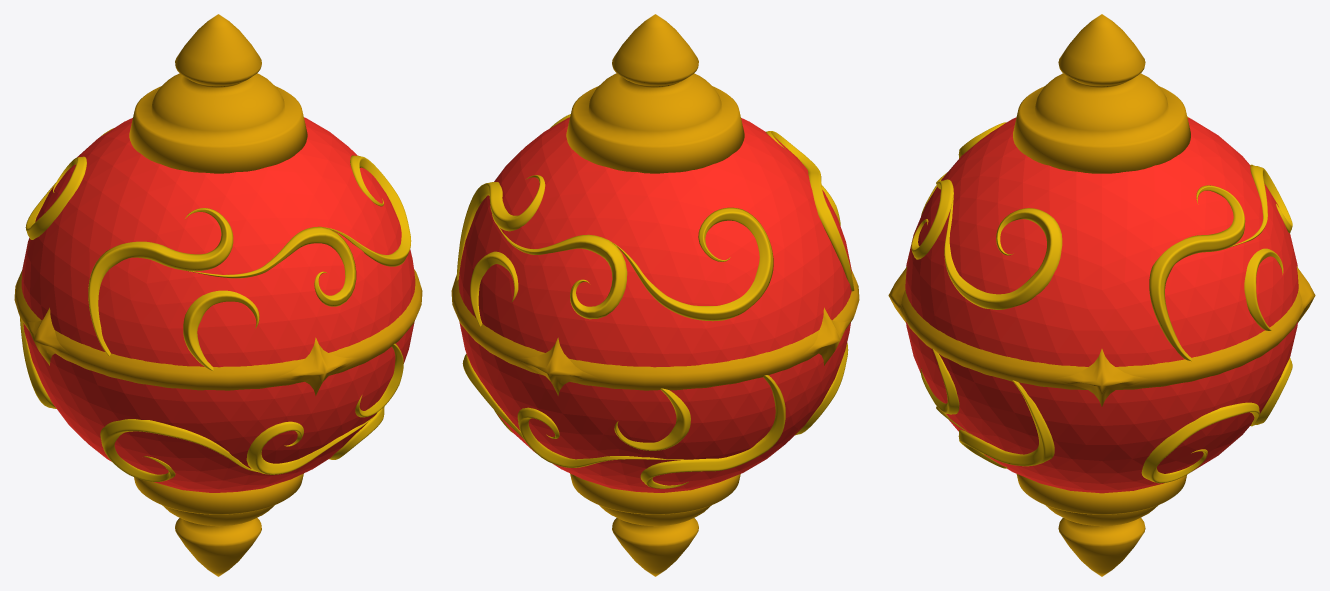
The model's file is hypersphere.glb.
3 renders of one model, left to right at view 1: azimuth 30°, elevation 25°; view 2: azimuth 150°, elevation 25°; view 3: azimuth 270°, elevation 25°, orthographic.
Visible parts, largest first — view 1: Plane; view 2: Plane; view 3: Plane.
Boxes of the visible parts, x1,y1,x2,y2 form: Plane: [14, 14, 422, 576]; Plane: [451, 14, 859, 576]; Plane: [888, 14, 1315, 576].
Size of the model in its own units: 2.16 by 3.14 by 2.16.
